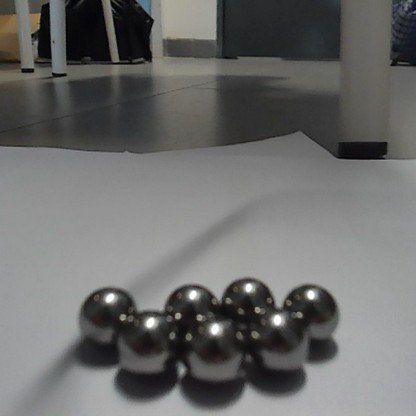ironball: (182, 317, 250, 382), (121, 312, 177, 371), (253, 312, 308, 372), (81, 287, 134, 344), (283, 283, 337, 337), (221, 277, 275, 317), (163, 284, 217, 322)
